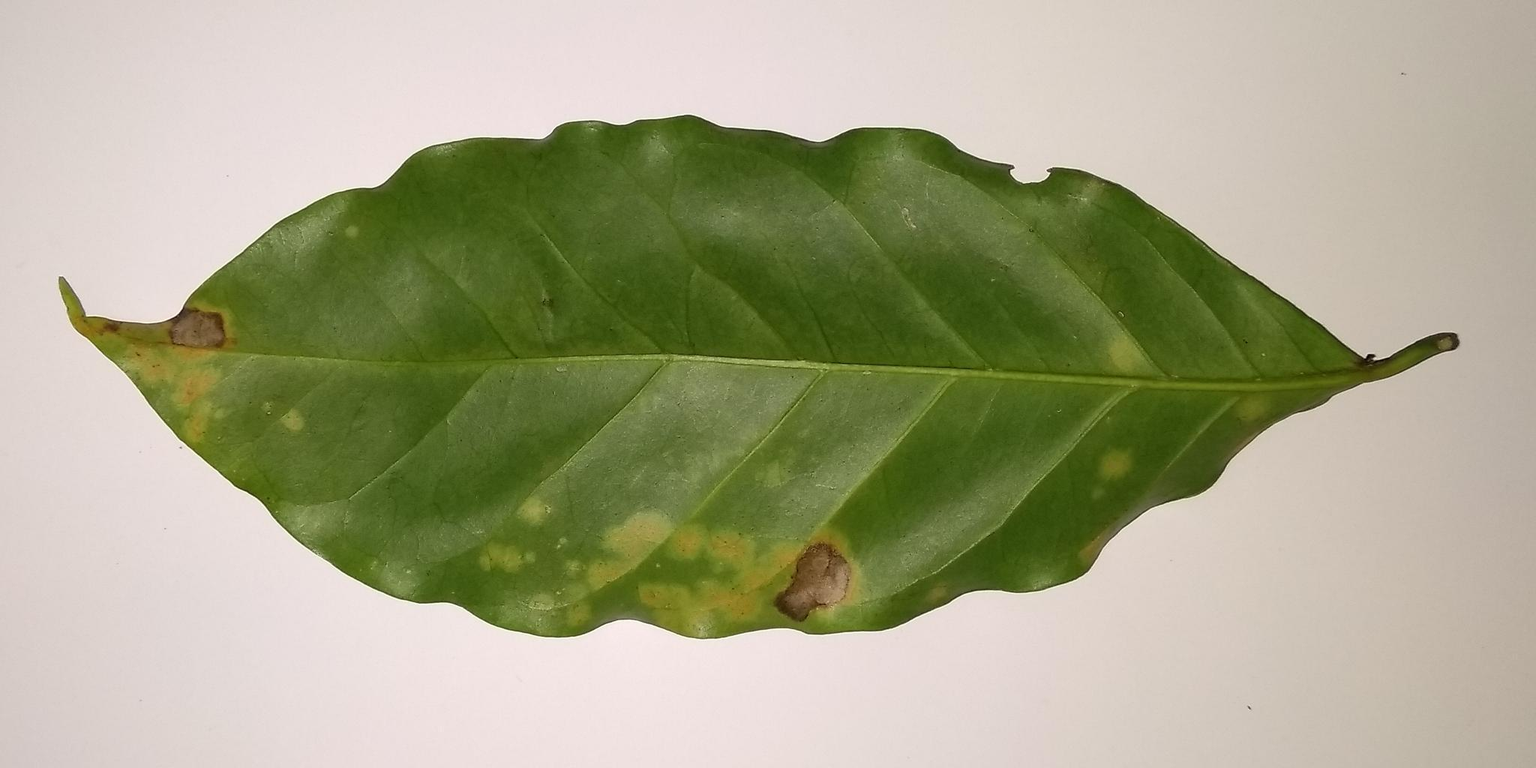Rust: (518, 480, 765, 642), (88, 293, 276, 456)
